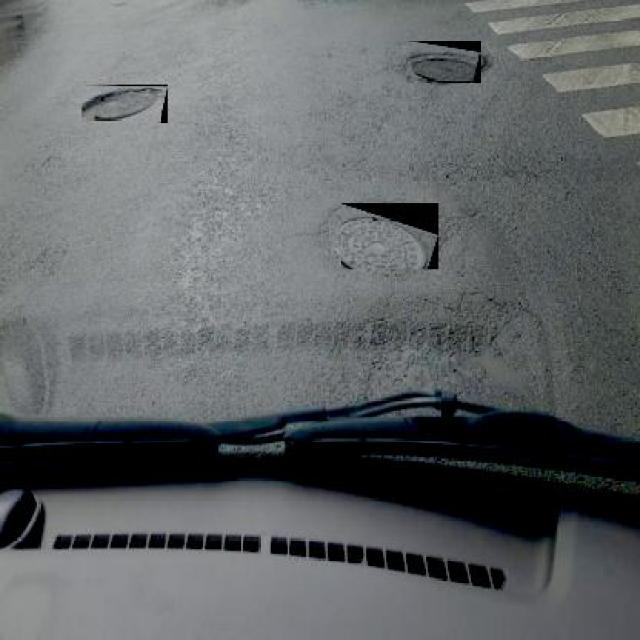Manhole: (340, 203, 438, 269), (81, 83, 168, 122), (406, 40, 480, 83)
